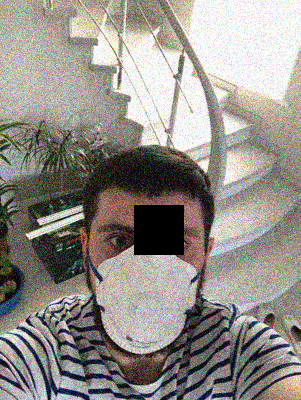with_mask: (92, 203, 205, 356)
